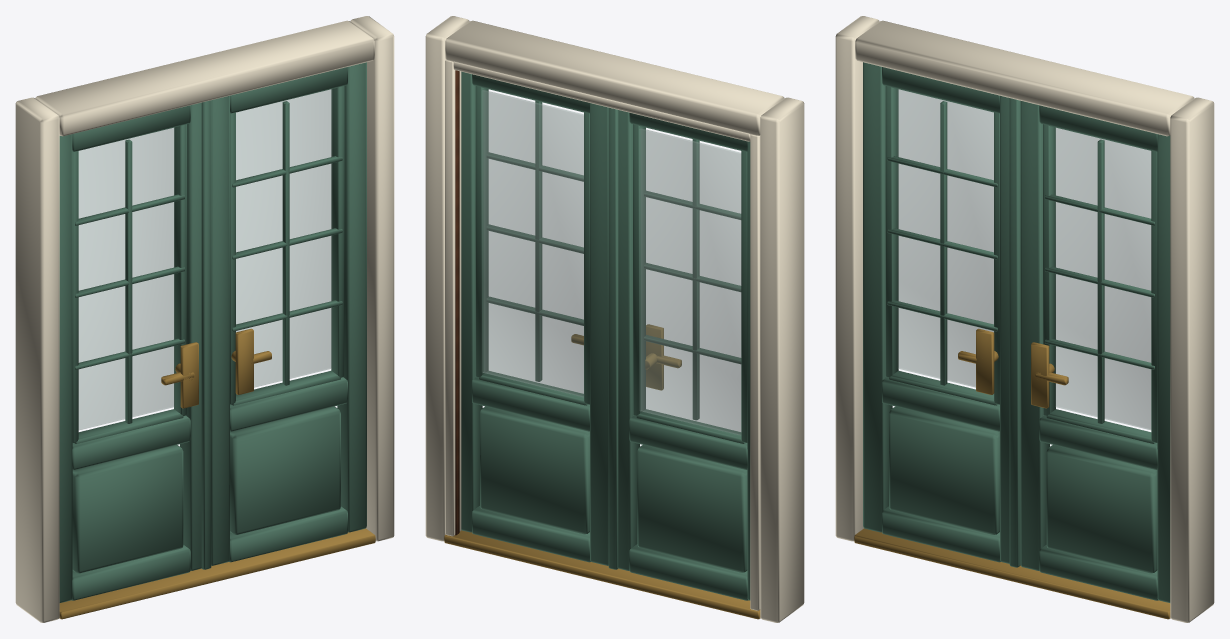
File: asset_053_main_entrance_double_door.glb
The picture shows the model from 3 angles, left to right: view 1: azimuth 30°, elevation 25°; view 2: azimuth 150°, elevation 25°; view 3: azimuth 330°, elevation 25°; orthographic projection.
Parts seen in each view (by area): view 1: MESH_DeepCreamDoorCasing, MESH_DoorRight_WalnutStructure, MESH_DoorLeft_Glass, MESH_DoorRight_Glass, MESH_DoorLeft_WalnutStructure, MESH_DoorLeft_RaisedLowerPanel, MESH_DoorRight_RaisedLowerPanel, MESH_DoorRight_DeepSashMoulding, MESH_DoorLeft_DeepSashMoulding, MESH_Threshold, MESH_DoorLeft_Astragal, MESH_DoorRight_WalnutMuntins (+3 smaller); view 2: MESH_DeepCreamDoorCasing, MESH_DoorLeft_Glass, MESH_DoorRight_Glass, MESH_DoorRight_WalnutStructure, MESH_DoorLeft_WalnutStructure, MESH_DoorLeft_RaisedLowerPanel, MESH_DoorRight_RaisedLowerPanel, MESH_DoorLeft_DeepSashMoulding, MESH_DoorRight_DeepSashMoulding, MESH_Threshold, MESH_DoorLeft_Astragal, MESH_DoorLeft_WalnutMuntins (+3 smaller); view 3: MESH_DeepCreamDoorCasing, MESH_DoorRight_WalnutStructure, MESH_DoorLeft_WalnutStructure, MESH_DoorRight_Glass, MESH_DoorLeft_Glass, MESH_DoorRight_RaisedLowerPanel, MESH_DoorLeft_RaisedLowerPanel, MESH_DoorLeft_DeepSashMoulding, MESH_DoorRight_DeepSashMoulding, MESH_DoorLeft_Astragal, MESH_Threshold, MESH_DoorLeft_WalnutMuntins (+3 smaller).
Part boxes in pixels (x1=…): MESH_DeepCreamDoorCasing: x1=15, y1=16, x2=394, y2=622; MESH_DoorRight_WalnutStructure: x1=211, y1=62, x2=366, y2=565; MESH_DoorLeft_Glass: x1=78, y1=128, x2=174, y2=430; MESH_DoorRight_Glass: x1=236, y1=89, x2=331, y2=387; MESH_DoorLeft_WalnutStructure: x1=59, y1=102, x2=201, y2=602; MESH_DoorLeft_RaisedLowerPanel: x1=72, y1=445, x2=183, y2=573; MESH_DoorRight_RaisedLowerPanel: x1=230, y1=406, x2=340, y2=534; MESH_DoorRight_DeepSashMoulding: x1=230, y1=86, x2=344, y2=405; MESH_DoorLeft_DeepSashMoulding: x1=72, y1=124, x2=186, y2=443; MESH_Threshold: x1=59, y1=528, x2=375, y2=619; MESH_DoorLeft_Astragal: x1=201, y1=100, x2=211, y2=569; MESH_DoorRight_WalnutMuntins: x1=232, y1=101, x2=342, y2=385; MESH_DeepCreamDoorCasing: x1=425, y1=16, x2=804, y2=622; MESH_DoorLeft_Glass: x1=639, y1=128, x2=741, y2=435; MESH_DoorRight_Glass: x1=482, y1=90, x2=583, y2=397; MESH_DoorRight_WalnutStructure: x1=461, y1=71, x2=608, y2=565; MESH_DoorLeft_WalnutStructure: x1=618, y1=110, x2=750, y2=600; MESH_DoorLeft_RaisedLowerPanel: x1=637, y1=445, x2=747, y2=572; MESH_DoorRight_RaisedLowerPanel: x1=480, y1=406, x2=589, y2=534; MESH_DoorLeft_DeepSashMoulding: x1=633, y1=124, x2=747, y2=443; MESH_DoorRight_DeepSashMoulding: x1=475, y1=86, x2=589, y2=405; MESH_Threshold: x1=444, y1=530, x2=760, y2=619; MESH_DoorLeft_Astragal: x1=608, y1=107, x2=618, y2=569; MESH_DoorLeft_WalnutMuntins: x1=644, y1=139, x2=741, y2=420; MESH_DeepCreamDoorCasing: x1=835, y1=16, x2=1214, y2=622; MESH_DoorRight_WalnutStructure: x1=1020, y1=101, x2=1170, y2=602; MESH_DoorLeft_WalnutStructure: x1=863, y1=62, x2=1009, y2=563; MESH_DoorRight_Glass: x1=1055, y1=128, x2=1151, y2=430; MESH_DoorLeft_Glass: x1=898, y1=89, x2=993, y2=387; MESH_DoorRight_RaisedLowerPanel: x1=1046, y1=445, x2=1157, y2=573; MESH_DoorLeft_RaisedLowerPanel: x1=889, y1=406, x2=999, y2=534; MESH_DoorLeft_DeepSashMoulding: x1=885, y1=86, x2=999, y2=405; MESH_DoorRight_DeepSashMoulding: x1=1043, y1=124, x2=1157, y2=443; MESH_DoorLeft_Astragal: x1=1009, y1=98, x2=1020, y2=567; MESH_Threshold: x1=854, y1=528, x2=1170, y2=619; MESH_DoorLeft_WalnutMuntins: x1=887, y1=101, x2=997, y2=385.
Size of the model in its own units: 1.8 by 2.45 by 0.24.
Materials: 6 (1 with a texture image).
